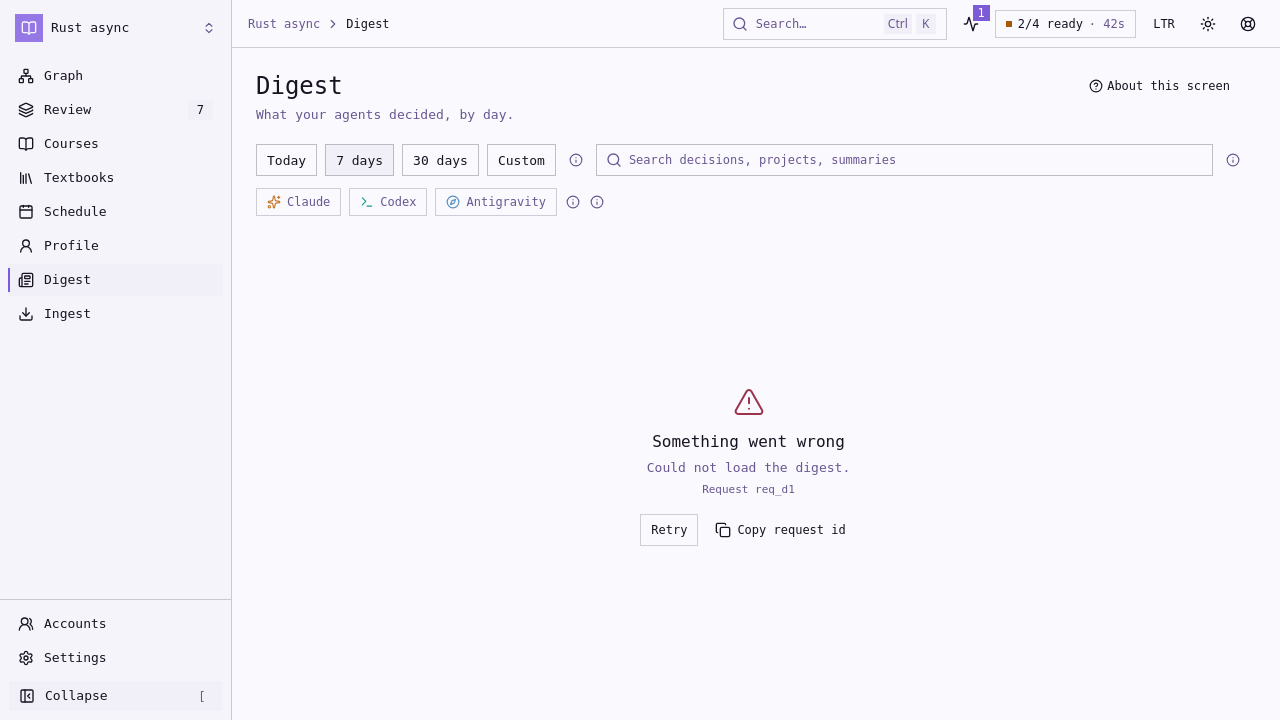
Test: Digest states › shows an error with the request id and retries
The width and height of the screenshot is (1280, 720).
Expected: the message with test id "error-state" shows "req_d1", [755,483,795,496]
Click the button with test id "error-retry". click: (669, 530)
box: [640,514,698,546]
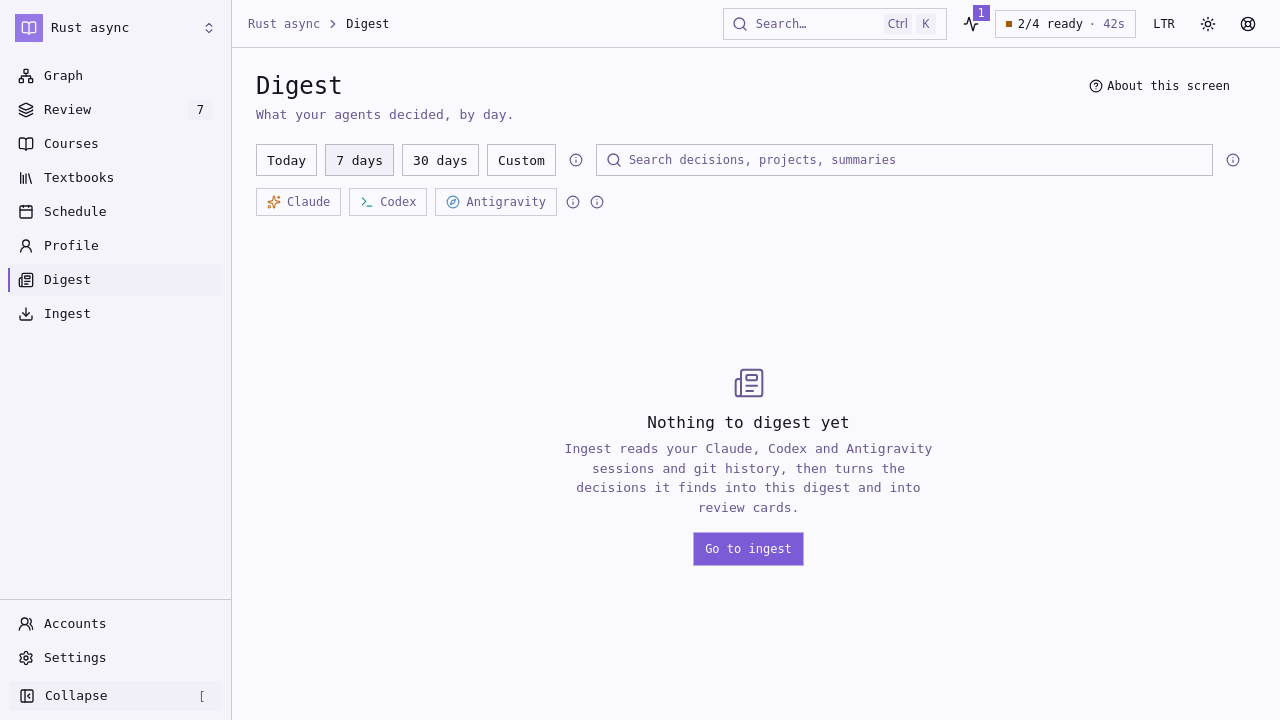
Now the heading "Nothing to digest yet" is shown, box [647,413,850,432]
